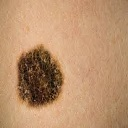Melanoma: (17, 48, 66, 105)
